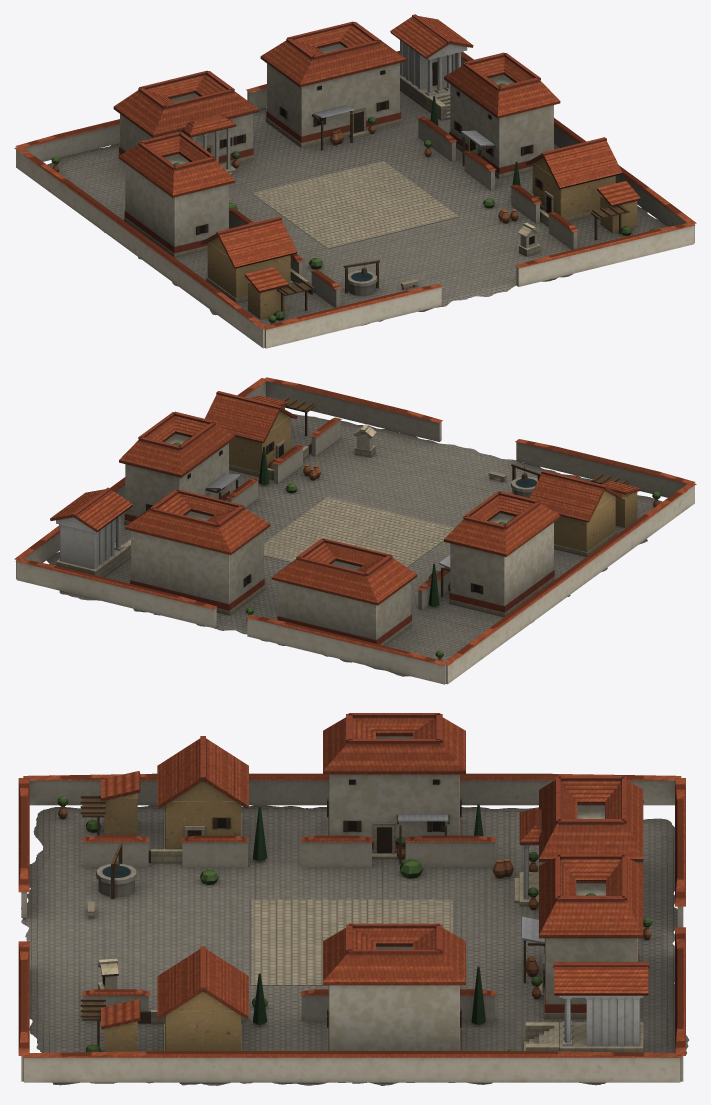
File: classical-town-small-b-europe.glb
3 renders of one model, top to bottom at view 1: azimuth 30°, elevation 25°; view 2: azimuth 150°, elevation 25°; view 3: azimuth 270°, elevation 25°, orthographic. The views are drawn at different scales.
Visible parts, largest first — view 1: LOD0; view 2: LOD0; view 3: LOD0.
Part boxes in pixels (<box>): LOD0: <box>14,14,696,348</box>; LOD0: <box>14,377,696,684</box>; LOD0: <box>18,713,688,1085</box>.
Size of what is drawn, in the model's own units: 4.02 by 0.755 by 4.06.
Materials: 3 (3 with a texture image).
